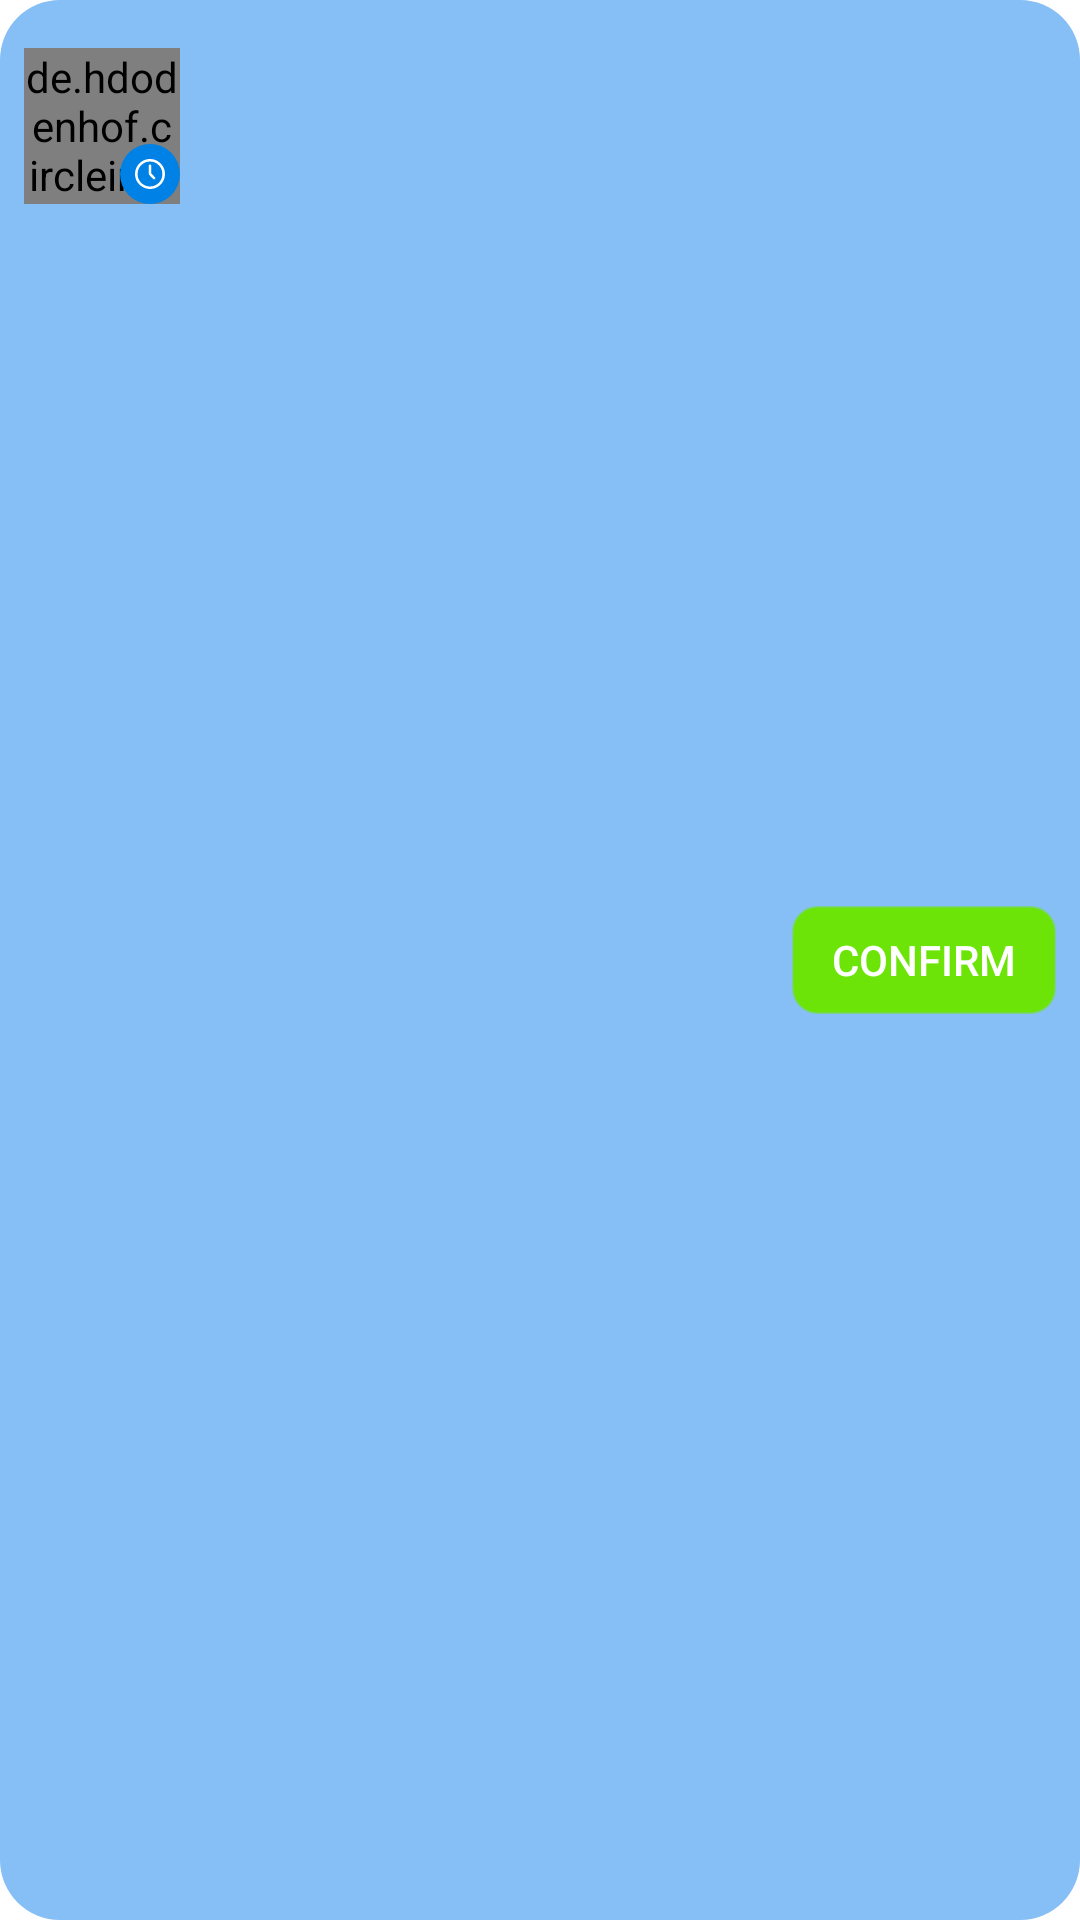

Icons on this 1080x1920 Android screen, each with the point to tap as (x=x, y=y):
schedule circle: (x=150, y=174)
